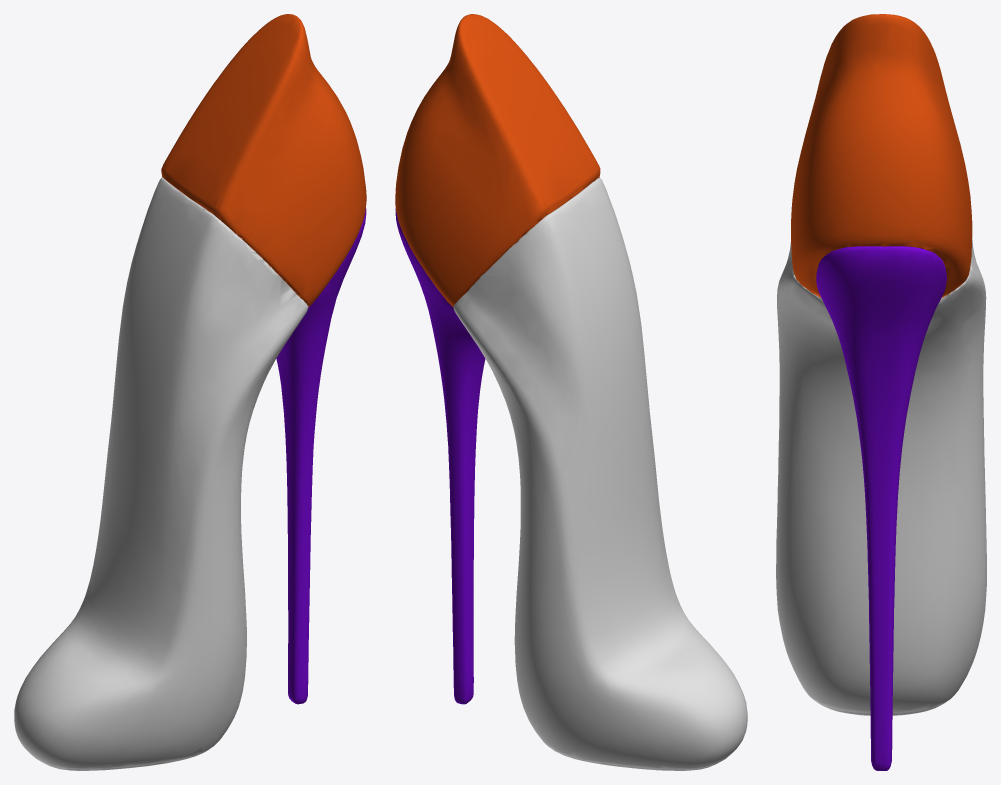
The model's file is MDL_Perfume_02.fbx.
3 renders of one model, left to right at view 1: azimuth 30°, elevation 25°; view 2: azimuth 150°, elevation 25°; view 3: azimuth 270°, elevation 25°, orthographic. The views are drawn at different scales.
Visible parts, largest first — view 1: model_part2.020, model_part0.020; view 2: model_part2.020, model_part0.020; view 3: model_part2.020, model_part0.020.
Part boxes in pixels (x1=…): model_part2.020: x1=14, y1=177, x2=308, y2=770; model_part0.020: x1=161, y1=14, x2=366, y2=704; model_part2.020: x1=453, y1=177, x2=747, y2=770; model_part0.020: x1=395, y1=14, x2=600, y2=704; model_part2.020: x1=776, y1=238, x2=986, y2=715; model_part0.020: x1=791, y1=14, x2=972, y2=770.
Bounding box in the file's own units: 59.01 × 117 × 29.6.
